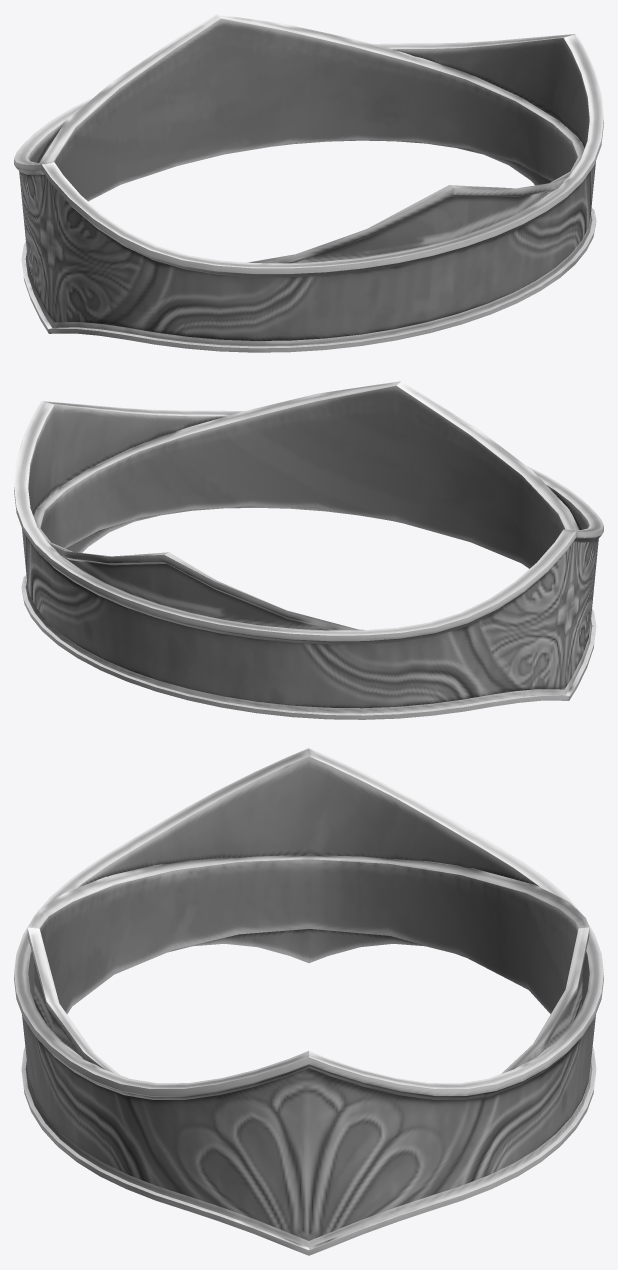
Rendered from SM_Male_Crown_Silver.fbx.
3 views of the same model, one above another, from view 1: azimuth 30°, elevation 25°; view 2: azimuth 150°, elevation 25°; view 3: azimuth 270°, elevation 25° (orthographic). The views are drawn at different scales.
Visible parts, largest first — view 1: SM_Male_Crown_Silver_LOD0; view 2: SM_Male_Crown_Silver_LOD0; view 3: SM_Male_Crown_Silver_LOD0.
Boxes of the visible parts, x1,y1,x2,y2 form: SM_Male_Crown_Silver_LOD0: (14,14,603,352); SM_Male_Crown_Silver_LOD0: (14,381,603,719); SM_Male_Crown_Silver_LOD0: (14,748,603,1255).
Bounding box in the file's own units: 21.26 × 17.15 × 6.53.
